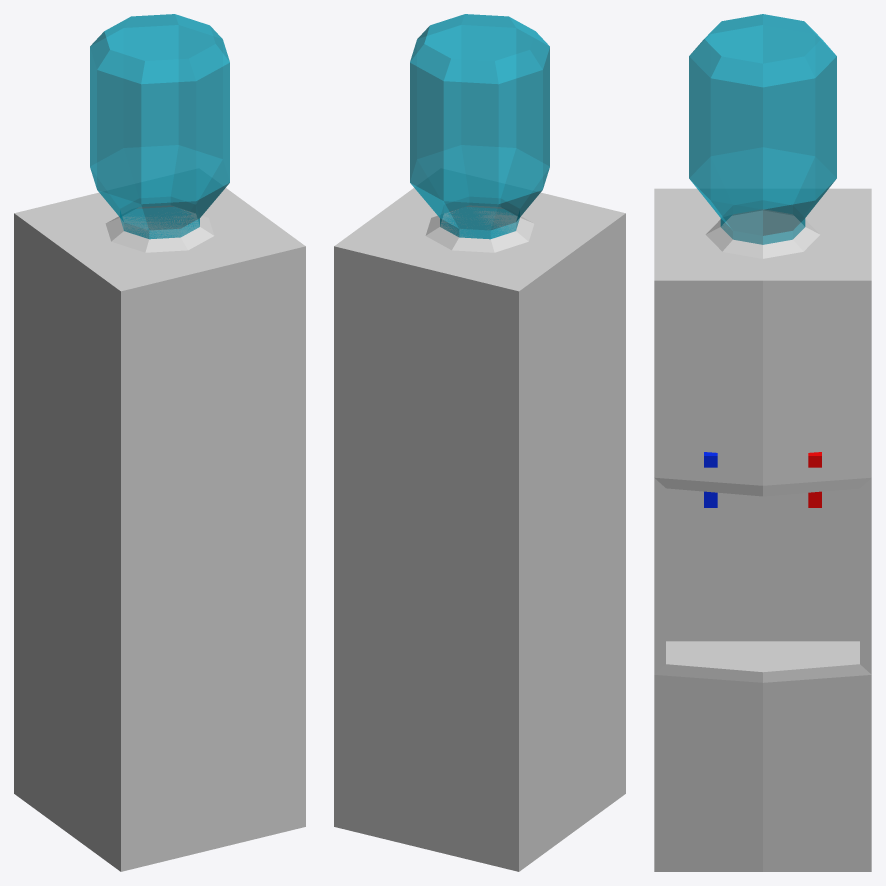
File: WaterDispenser.FBX
The picture shows the model from 3 angles, left to right: view 1: azimuth 30°, elevation 25°; view 2: azimuth 150°, elevation 25°; view 3: azimuth 270°, elevation 25°; orthographic projection.
Parts seen in each view (by area): view 1: dispenser; view 2: dispenser; view 3: dispenser.
Boxes of the visible parts, x1,y1,x2,y2 form: dispenser: (14, 14, 305, 871); dispenser: (334, 14, 625, 871); dispenser: (654, 14, 871, 871).
Bounding box in the file's own units: 17.14 × 62.89 × 15.75.
